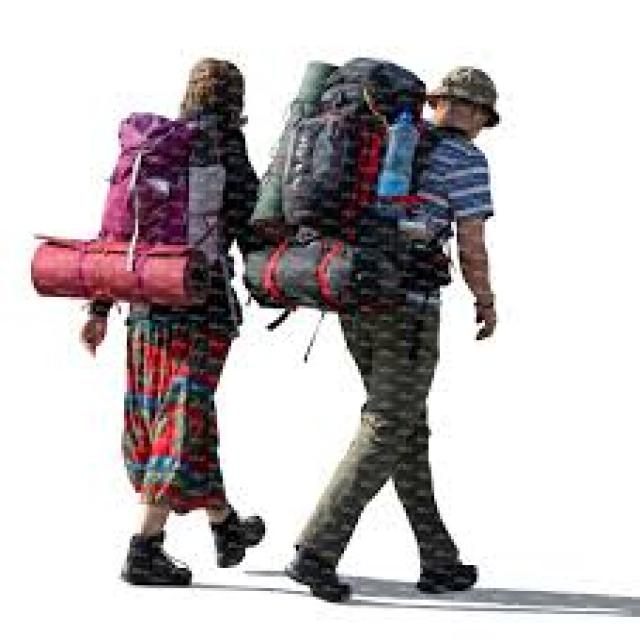backpack: (244, 56, 444, 315), (42, 113, 225, 337)
